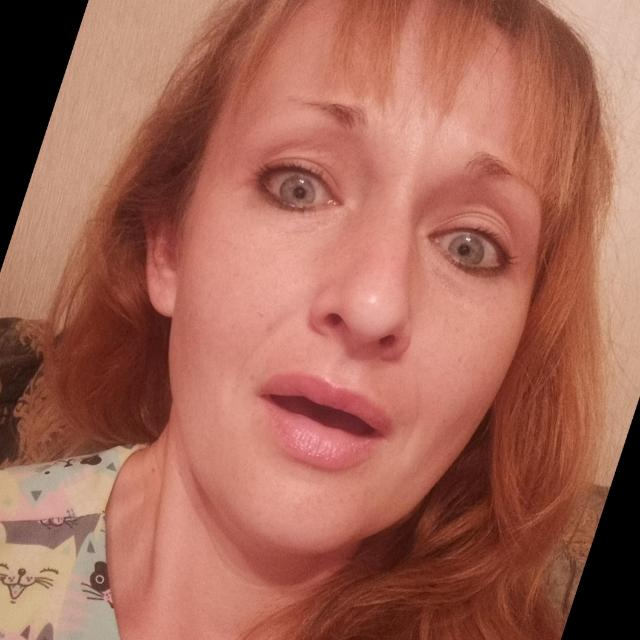Surprised: (138, 50, 608, 599)
